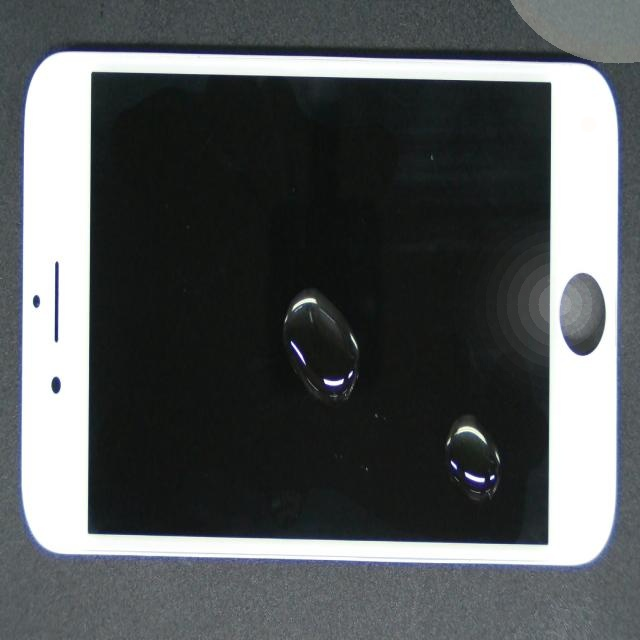oil: (271, 257, 640, 640), (164, 240, 529, 590)
